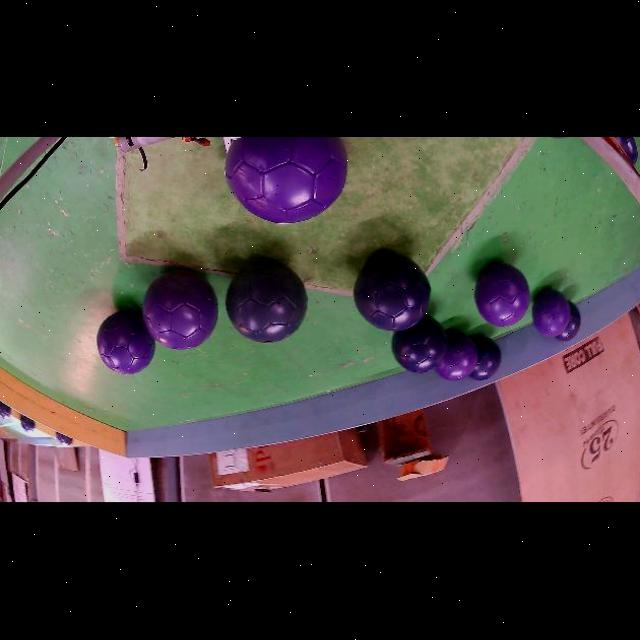B: (227, 262, 308, 343), (354, 254, 431, 332), (392, 316, 447, 374), (470, 335, 501, 381), (555, 302, 581, 342)
P: (225, 138, 347, 224), (143, 271, 218, 349), (97, 310, 155, 376), (474, 264, 530, 328), (435, 332, 478, 381), (533, 290, 571, 338)
